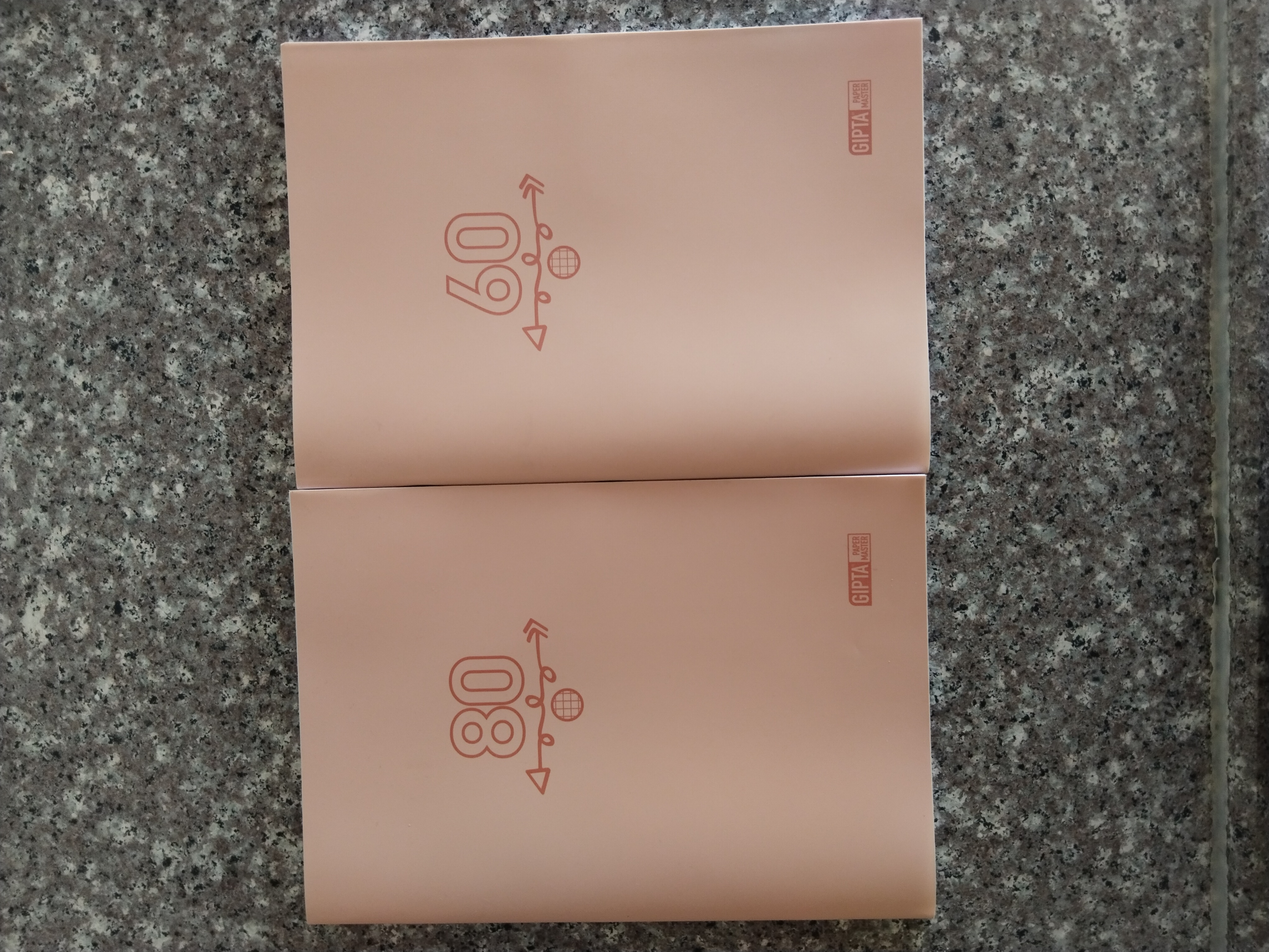60_sayfa_gipta_defter: (281, 18, 930, 489)
80_sayfa_gipta_defter: (292, 478, 938, 926)
